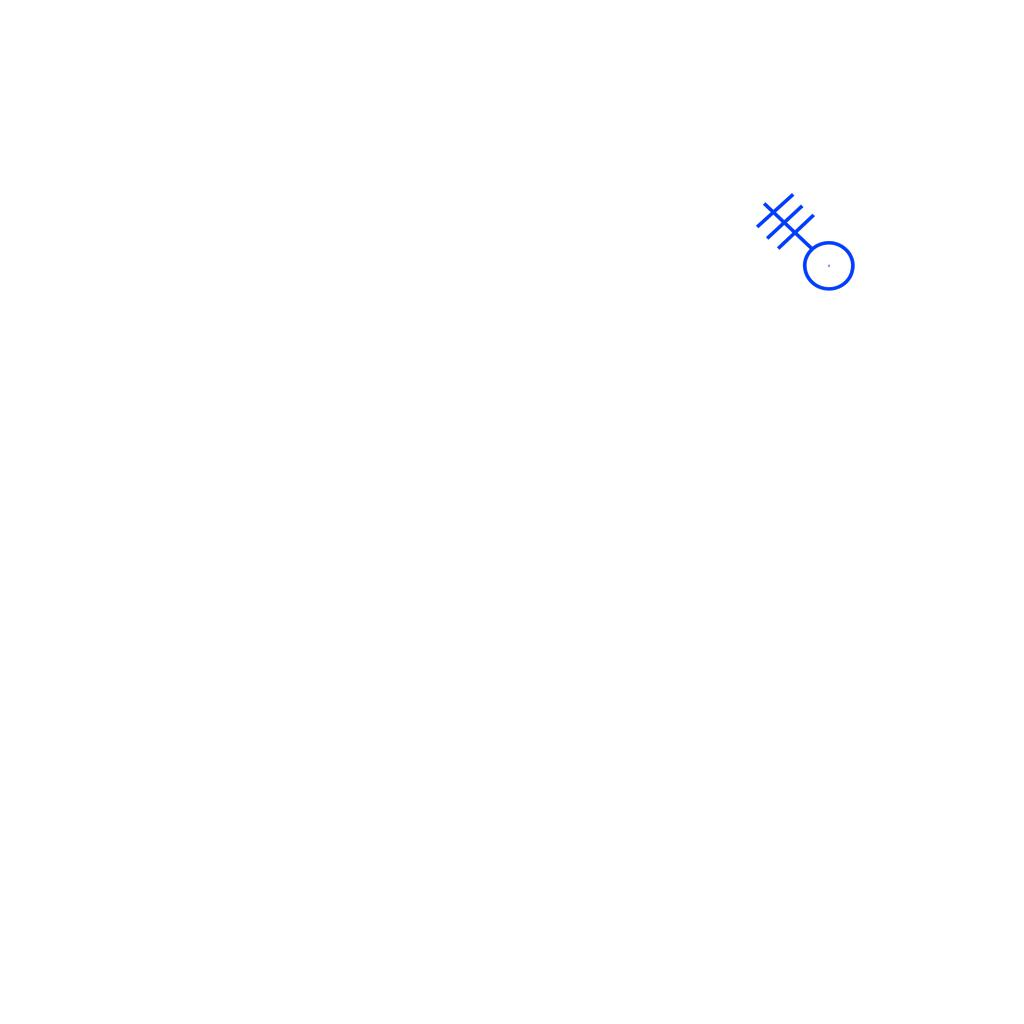Elektroanschluss_allgemein_400V_Geraeteanschlussdose_400V: (743, 192, 856, 308)
